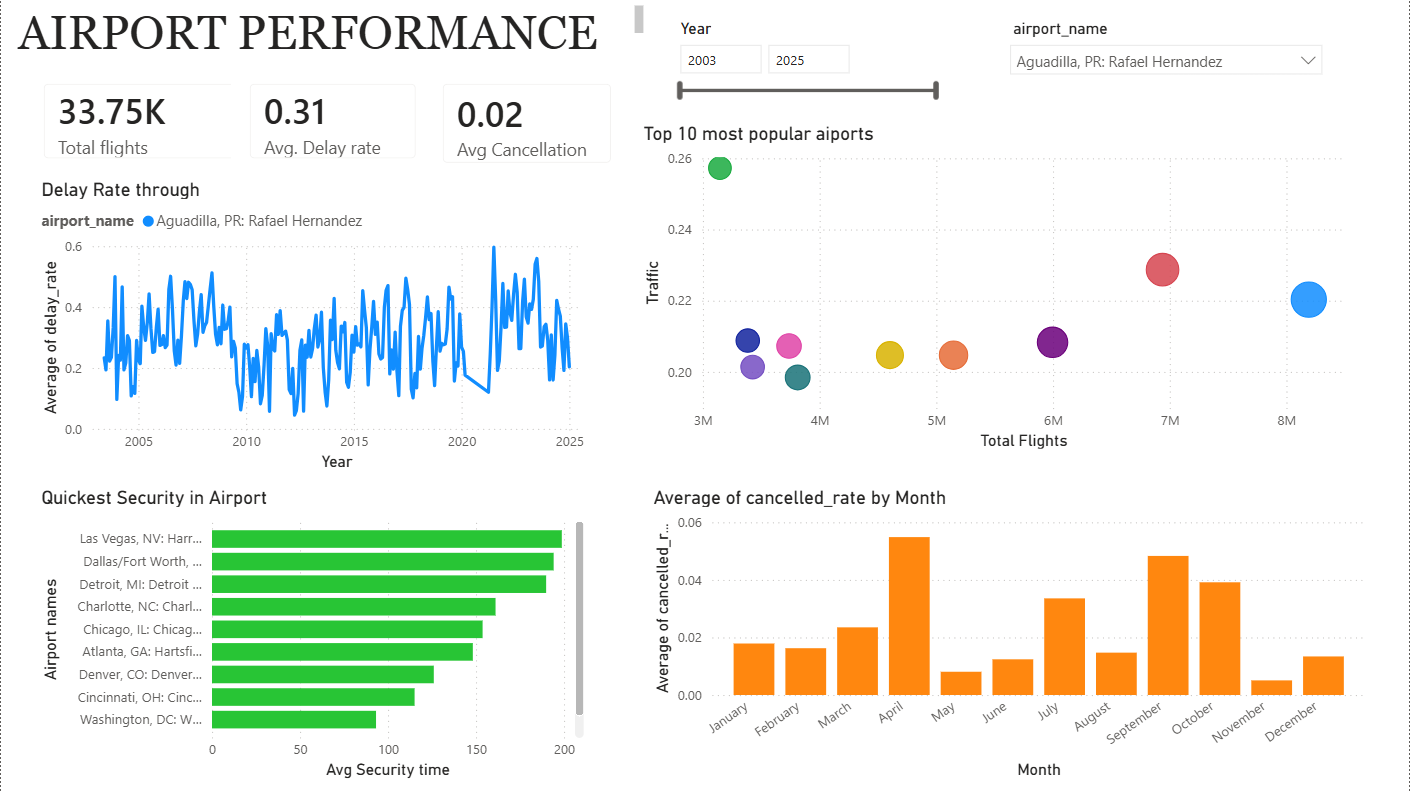

Layout of this report page (visuals, bound fields, positions):
{"tool":"powerbi","page":{"name":"Page 1","canvas":[1280,720],"ordinal":0},"visuals":[{"type":"textbox","box":[9.9,0,578.5,59.1],"z":0},{"type":"lineChart","title":"Delay Rate through","fields":{"Y":["Avg(Data.delay_rate)"],"Series":["Data.airport_name"],"Category":["Data.date.Variation.Date Hierarchy.Year","Data.date.Variation.Date Hierarchy.Month"]},"box":[32.1,161.5,502.9,271.4],"z":1000},{"type":"slicer","fields":{"Values":["Data.airport_name"]},"box":[907.2,12.5,303.6,93.1],"z":2000},{"type":"slicer","fields":{"Values":["Data.date.Variation.Date Hierarchy.Year"]},"box":[604.5,12.5,261.5,93.1],"z":3000},{"type":"cardVisual","fields":{"Data":["Sum(Data.arr_flights)"]},"box":[21.4,59.3,218.8,102.1],"z":4000},{"type":"cardVisual","fields":{"Data":["Avg(Data.delay_rate)"]},"box":[209.1,59.3,185.8,102.1],"z":5000},{"type":"cardVisual","fields":{"Data":["Avg(Data.cancelled_rate)"]},"box":[384.2,59.3,187.7,106],"z":6000},{"type":"scatterChart","title":"Top 10 most popular aiports","fields":{"X":["Data.arr_flights"],"Series":["Data.airport"],"Y":["Data.delay_rate"],"Size":["Data.arr_flights"]},"box":[578.7,110.9,656.5,302.5],"z":7000},{"type":"clusteredBarChart","title":"Quickest Security in Airport","fields":{"Category":["Data.airport_name"],"Y":["Avg(Data.security_delay)"]},"box":[32,442,503,271],"z":8000},{"type":"lineStackedColumnComboChart","fields":{"Category":["Data.date.Variation.Date Hierarchy.Month"],"Y":["Avg(Data.cancelled_rate)"]},"box":[588,442,657,271],"z":8001}]}

Visuals, with their boxes in screenshot pixels (x1, y1, x2, y2), scaled from the page's 1280x720 canvas onto the 1410x792 screenshot:
textbox: locate(11, 0, 648, 65)
"Delay Rate through" lineChart: locate(35, 178, 589, 476)
slicer - Data.airport_name: locate(999, 14, 1334, 116)
slicer - Data.date.Variation.Date Hierarchy.Year: locate(666, 14, 954, 116)
cardVisual - Sum(Data.arr_flights): locate(24, 65, 265, 178)
cardVisual - Avg(Data.delay_rate): locate(230, 65, 435, 178)
cardVisual - Avg(Data.cancelled_rate): locate(423, 65, 630, 182)
"Top 10 most popular aiports" scatterChart: locate(637, 122, 1361, 455)
"Quickest Security in Airport" clusteredBarChart: locate(35, 486, 589, 784)
lineStackedColumnComboChart - Data.date.Variation.Date Hierarchy.Month x Avg(Data.cancelled_rate): locate(648, 486, 1371, 784)
